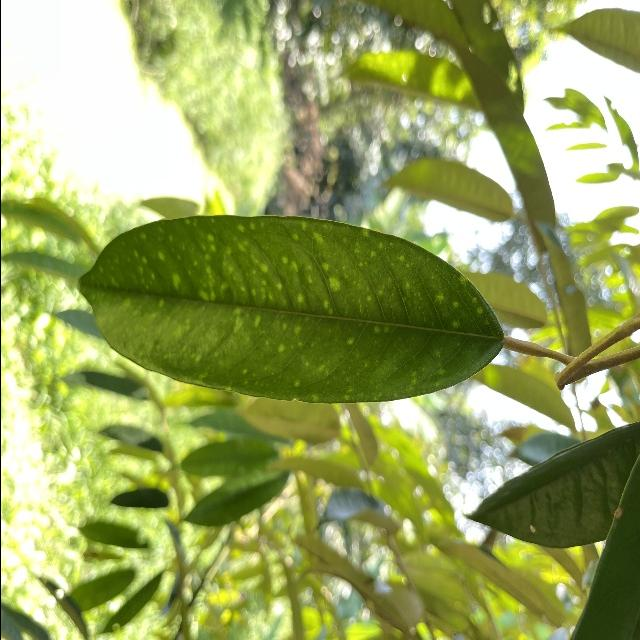Leaf Spot: (67, 203, 505, 405)
